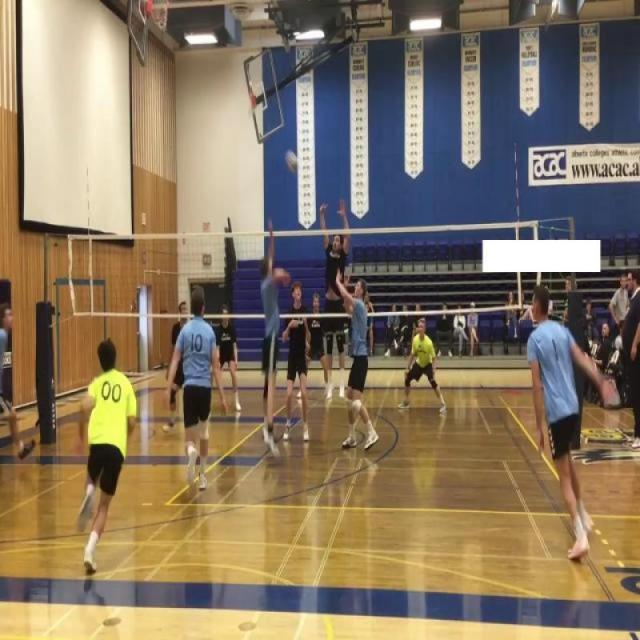volleyball: (284, 149, 300, 174)
